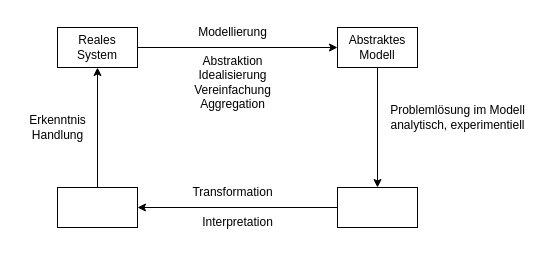
The diagram is 554 pixels wide and 254 high, and some of its shapes have lost their labels. Each missing label, with the centre of its shape:
Lösung im Modell: the point at 377,207
Lösung in der Realität: the point at 97,207
